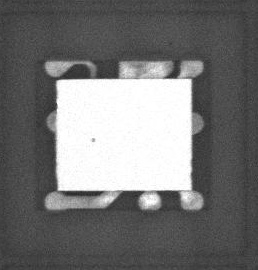DIE_INK: (89, 136, 96, 144)
